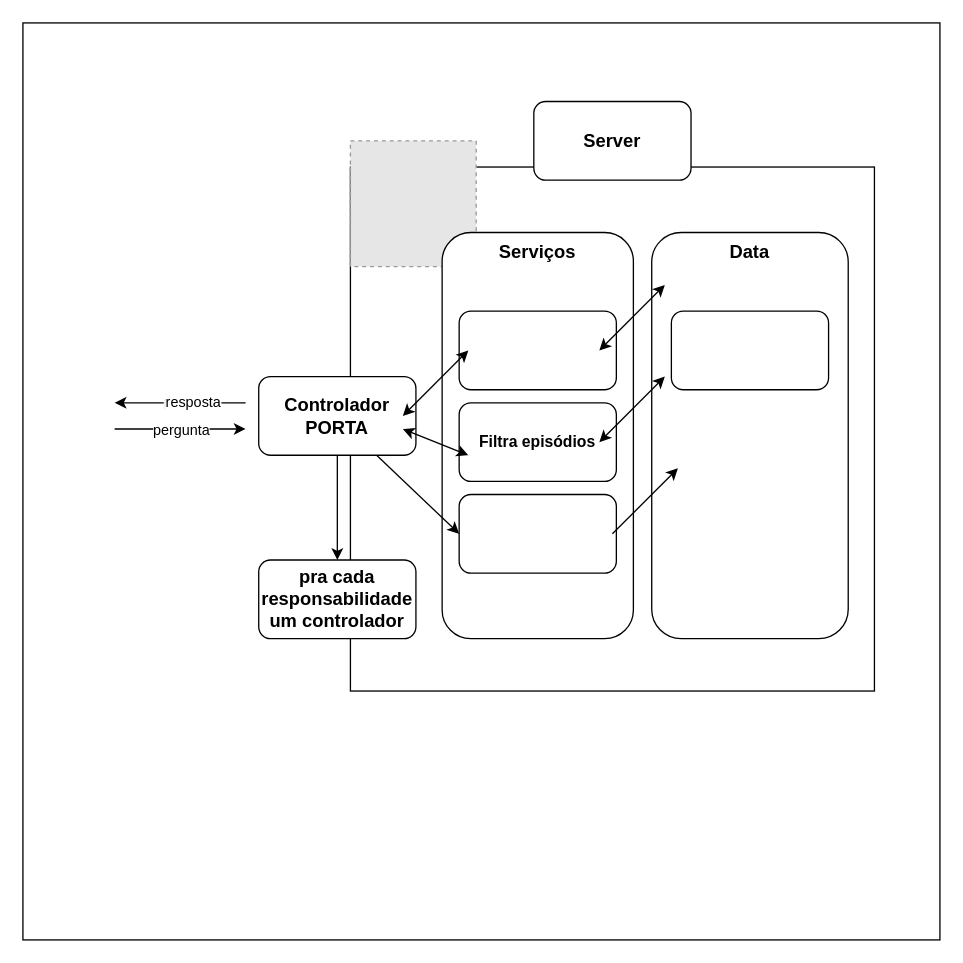
Image size: 963x963. Some labels were removed from this diagram. Grey dashed boxes stand in for pictures. The centre of each missing label's shape, as x and y in pixels:
"Cadastro de videos" goes at point (537, 533).
"Lista episódios" goes at point (537, 350).
"Repositorio" goes at point (749, 350).
